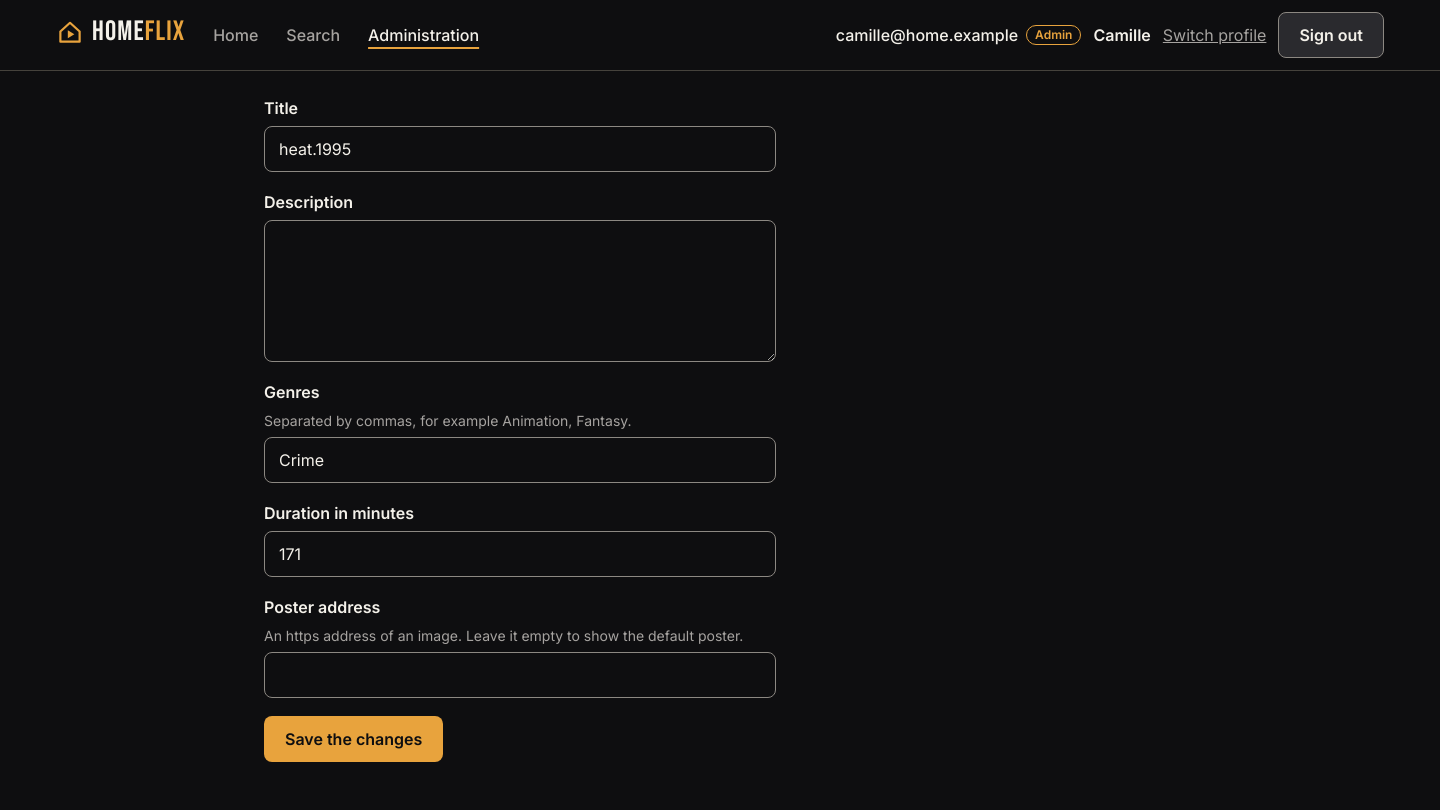
Scenario: MediaEditPage › shows the server message on the field it refused
This screenshot has width=1440, height=810.
(page scrolled)
Type "http://images.example.org/heat.jpg" into the field labelled "Poster address".
click(520, 674); type("http://images.example.org/heat.jpg")  # box x1=264 y1=652 x2=776 y2=698
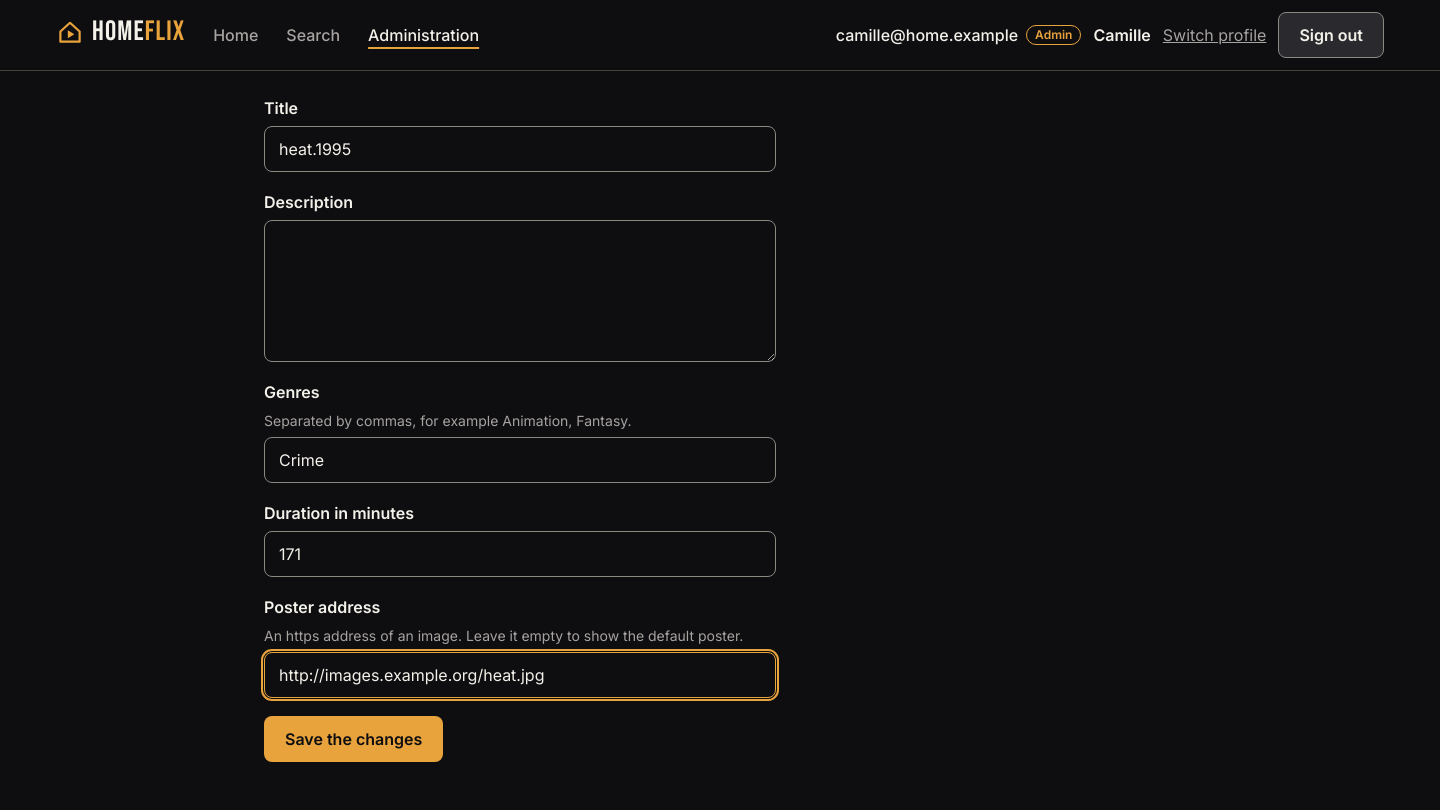
Click the button "Save the changes".
click(354, 738)  # box x1=264 y1=716 x2=443 y2=762
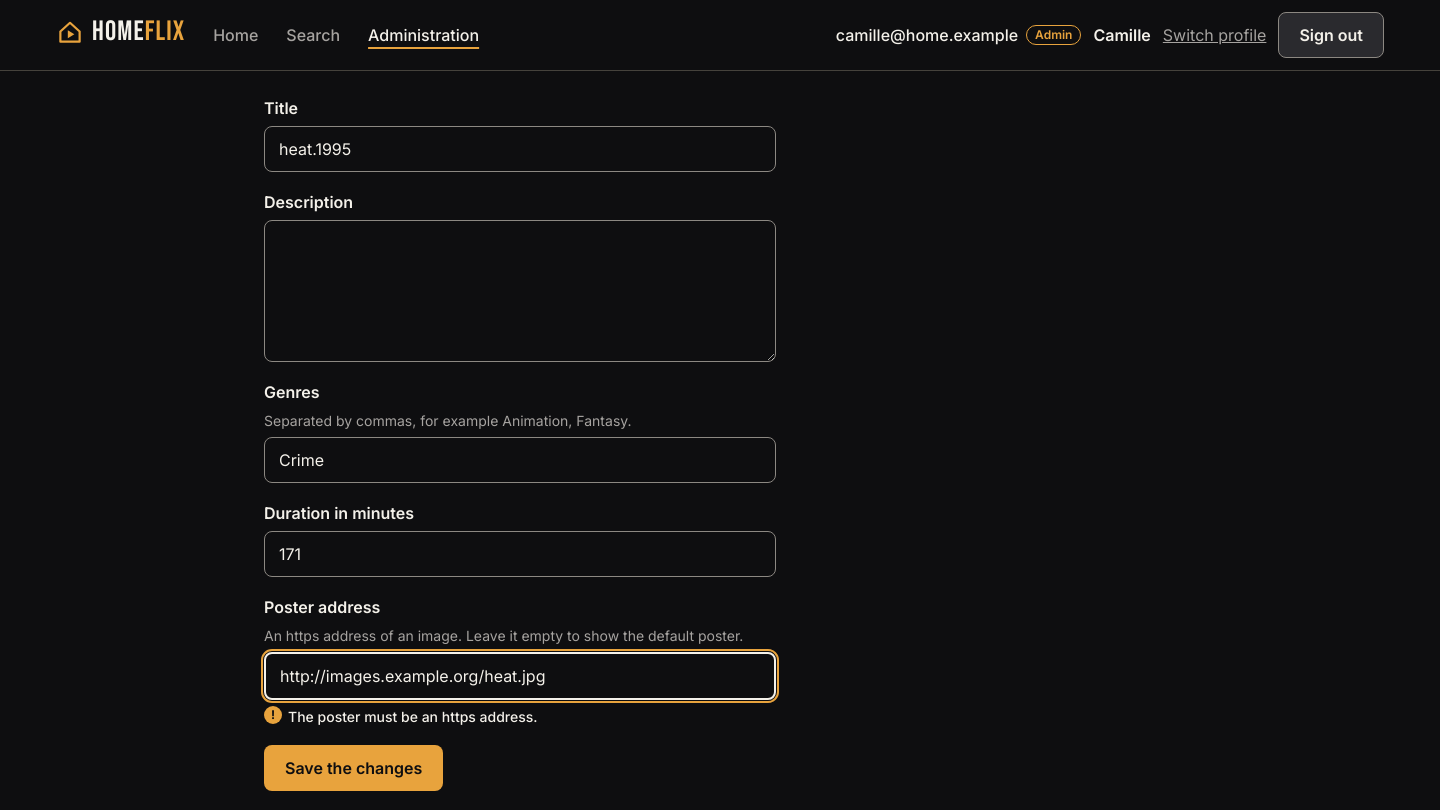
Check: the text "The poster must be an https address." is shown, box x1=288 y1=708 x2=538 y2=724
